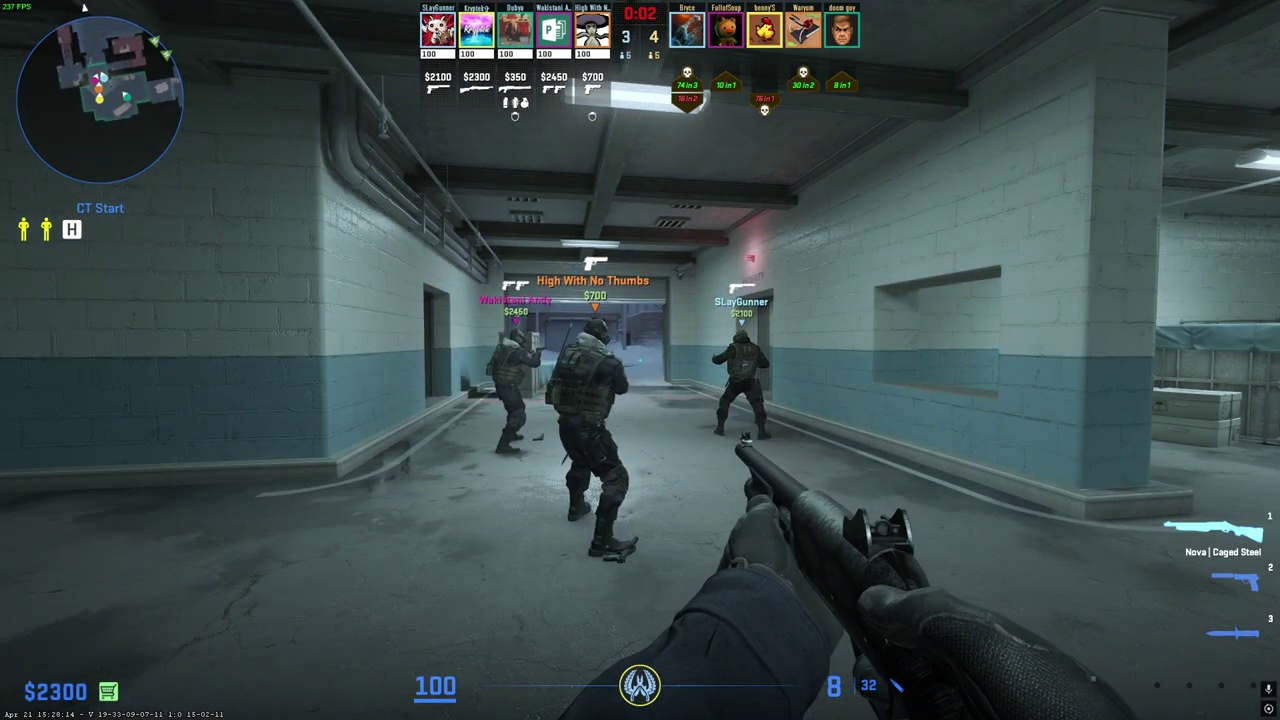CT: (555, 317, 634, 558), (713, 331, 768, 440), (491, 329, 535, 455)
